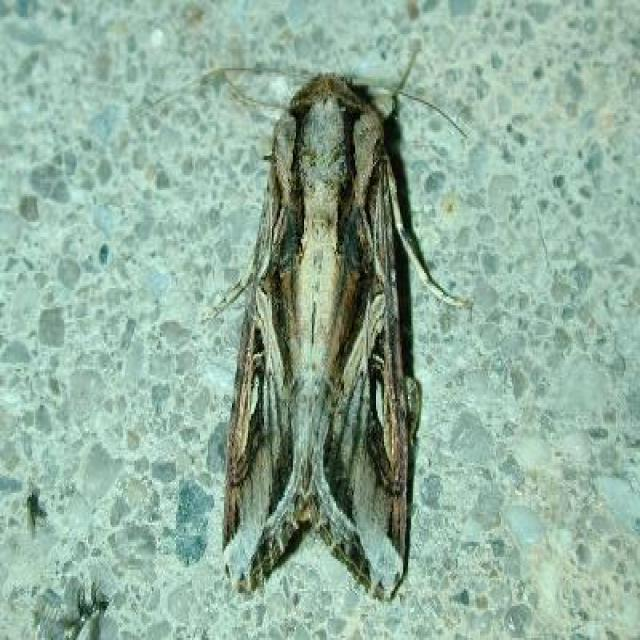BeetArmyWorm-Adult-: (162, 51, 458, 607)
